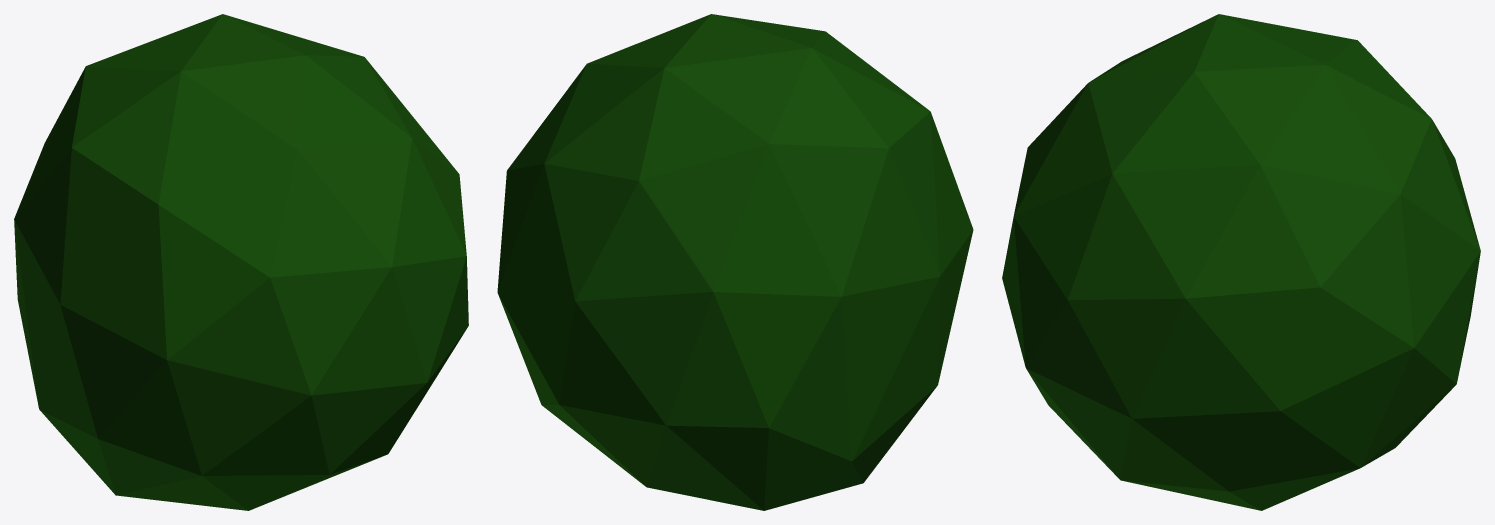
3 renders of one model, left to right at view 1: azimuth 30°, elevation 25°; view 2: azimuth 150°, elevation 25°; view 3: azimuth 270°, elevation 25°, orthographic.
Parts seen in each view (by area): view 1: Icosphere.010; view 2: Icosphere.010; view 3: Icosphere.010.
Part boxes in pixels (x1=…): Icosphere.010: x1=14, y1=14, x2=468, y2=510; Icosphere.010: x1=497, y1=14, x2=973, y2=510; Icosphere.010: x1=1002, y1=14, x2=1480, y2=510.
Bounding box in the file's own units: 2.66 × 2.8 × 2.78.
